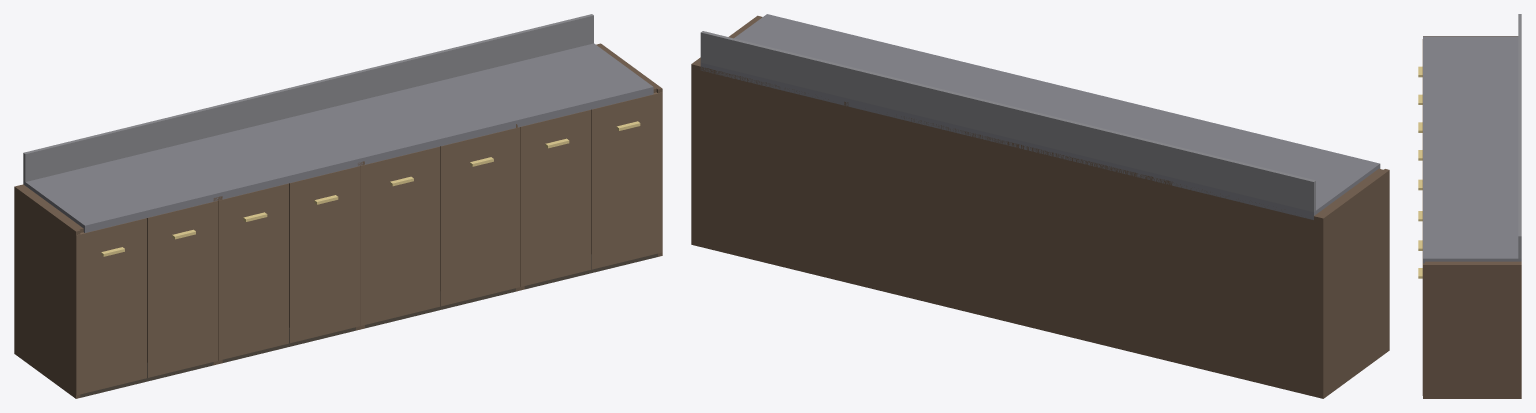
The picture shows the model from 3 angles, left to right: view 1: azimuth 30°, elevation 25°; view 2: azimuth 150°, elevation 25°; view 3: azimuth 270°, elevation 25°; orthographic projection. The views are drawn at different scales.
Parts seen in each view (by area): view 1: Countertop, Backsplash, Lower_Cabinet_Sink_Door_Left, Lower_Cabinet_Sink_Door_Right, Lower_Cabinet_2_Door_Right, Lower_Cabinet_4_Door_Left, Lower_Cabinet_4_Door_Right, Lower_Cabinet_1_Door_Left, Lower_Cabinet_1_Door_Right, Lower_Cabinet_2_Door_Left, Lower_Cabinet_1_Left_Side, Lower_Cabinet_Sink_Toe_Kick (+3 smaller); view 2: Lower_Cabinet_Sink_Back, Lower_Cabinet_2_Back, Lower_Cabinet_1_Back, Lower_Cabinet_4_Back, Countertop, Backsplash, Lower_Cabinet_1_Left_Side, Lower_Cabinet_4_Right_Side, Lower_Cabinet_Sink_Right_Side, Lower_Cabinet_4_Left_Side, Lower_Cabinet_1_Right_Side; view 3: Countertop, Lower_Cabinet_4_Right_Side, Backsplash, Lower_Cabinet_4_Back, Lower_Cabinet_4_Top, Lower_Cabinet_4_Door_Right.
Boxes of the visible parts, x1,y1,x2,y2 form: Countertop: (23, 43, 653, 232); Backsplash: (23, 14, 593, 181); Lower_Cabinet_Sink_Door_Left: (361, 146, 440, 325); Lower_Cabinet_Sink_Door_Right: (440, 127, 519, 306); Lower_Cabinet_2_Door_Right: (289, 166, 360, 343); Lower_Cabinet_4_Door_Left: (520, 109, 591, 286); Lower_Cabinet_4_Door_Right: (591, 92, 662, 269); Lower_Cabinet_1_Door_Left: (76, 218, 146, 395); Lower_Cabinet_1_Door_Right: (147, 200, 217, 377); Lower_Cabinet_2_Door_Left: (218, 183, 288, 360); Lower_Cabinet_1_Left_Side: (14, 185, 80, 398); Lower_Cabinet_Sink_Toe_Kick: (365, 288, 515, 328); Lower_Cabinet_Sink_Back: (844, 107, 1016, 323); Lower_Cabinet_2_Back: (1017, 144, 1170, 361); Lower_Cabinet_1_Back: (1170, 184, 1326, 398); Lower_Cabinet_4_Back: (691, 62, 844, 281); Countertop: (700, 14, 1380, 219); Backsplash: (700, 31, 1315, 211); Lower_Cabinet_1_Left_Side: (1318, 169, 1389, 398); Lower_Cabinet_4_Right_Side: (691, 15, 762, 245); Lower_Cabinet_Sink_Right_Side: (844, 101, 849, 282); Lower_Cabinet_4_Left_Side: (839, 104, 844, 281); Lower_Cabinet_1_Right_Side: (1170, 181, 1174, 362); Countertop: (1423, 36, 1521, 263); Lower_Cabinet_4_Right_Side: (1423, 263, 1521, 398); Backsplash: (1518, 14, 1521, 258); Lower_Cabinet_4_Back: (1517, 261, 1521, 398); Lower_Cabinet_4_Top: (1425, 261, 1519, 263); Lower_Cabinet_4_Door_Right: (1422, 240, 1422, 395).
Bounding box in the file's own units: 3.3 × 1.07 × 0.6275.
